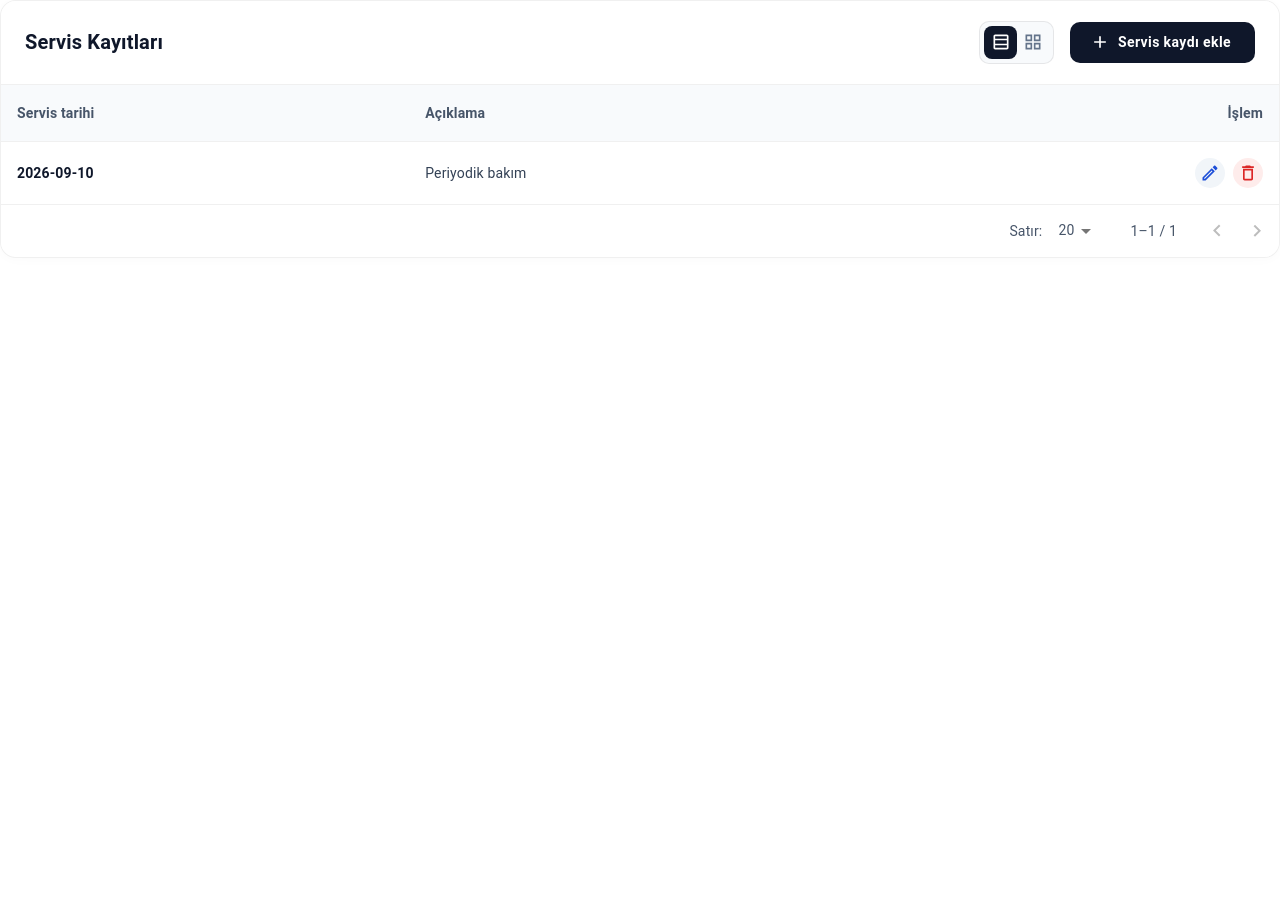
ServiceSection › silmeden önce kullanıcıdan onay ister ve başarılı silmede listeyi yeniler
The width and height of the screenshot is (1280, 900).
Click the button named "Sil" at (1248, 173), box [1233, 158, 1263, 188]
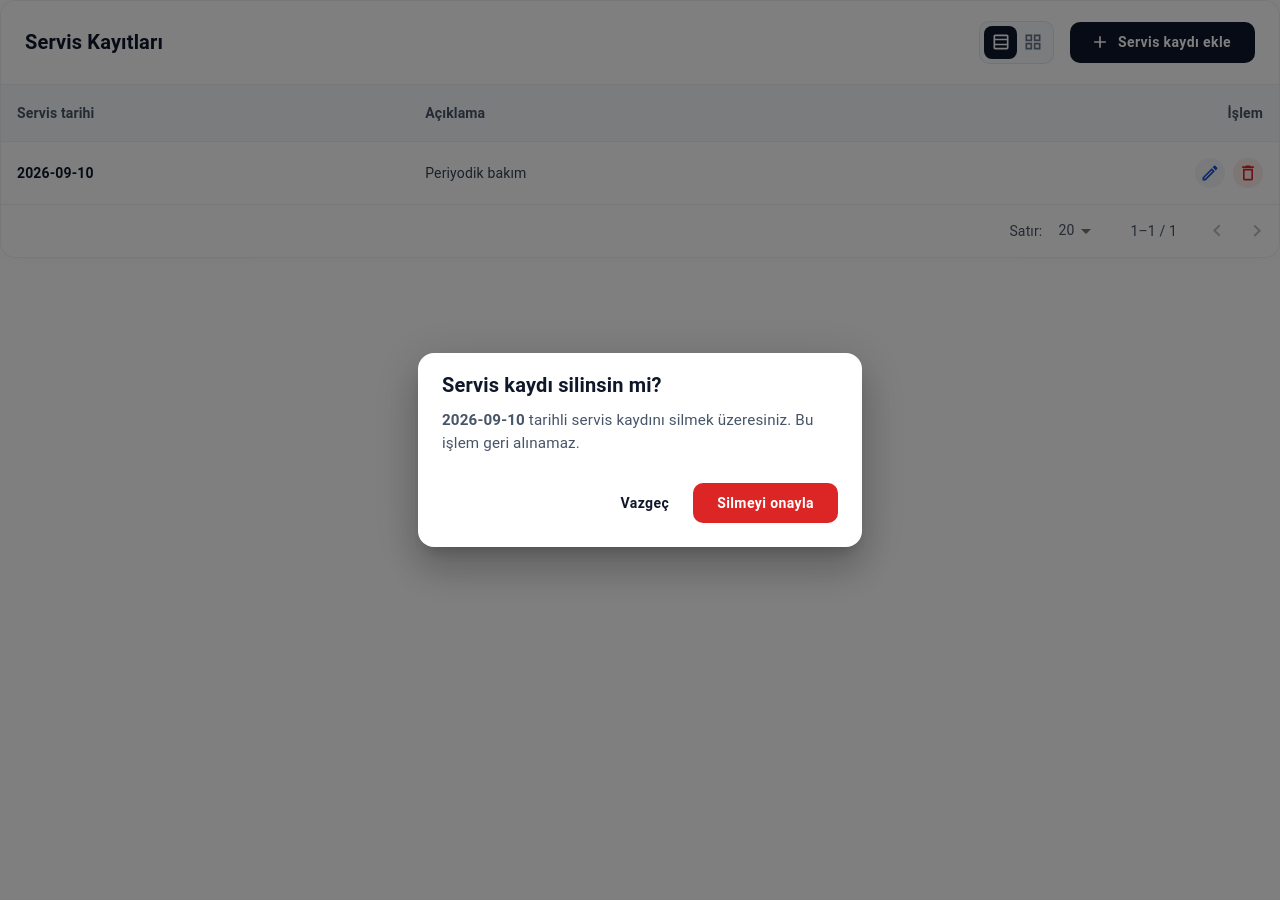
Expected: the heading "Servis kaydı silinsin mi?" is shown, [442, 373, 662, 397]
Click the button "Silmeyi onayla" at (766, 503), box [693, 482, 838, 523]
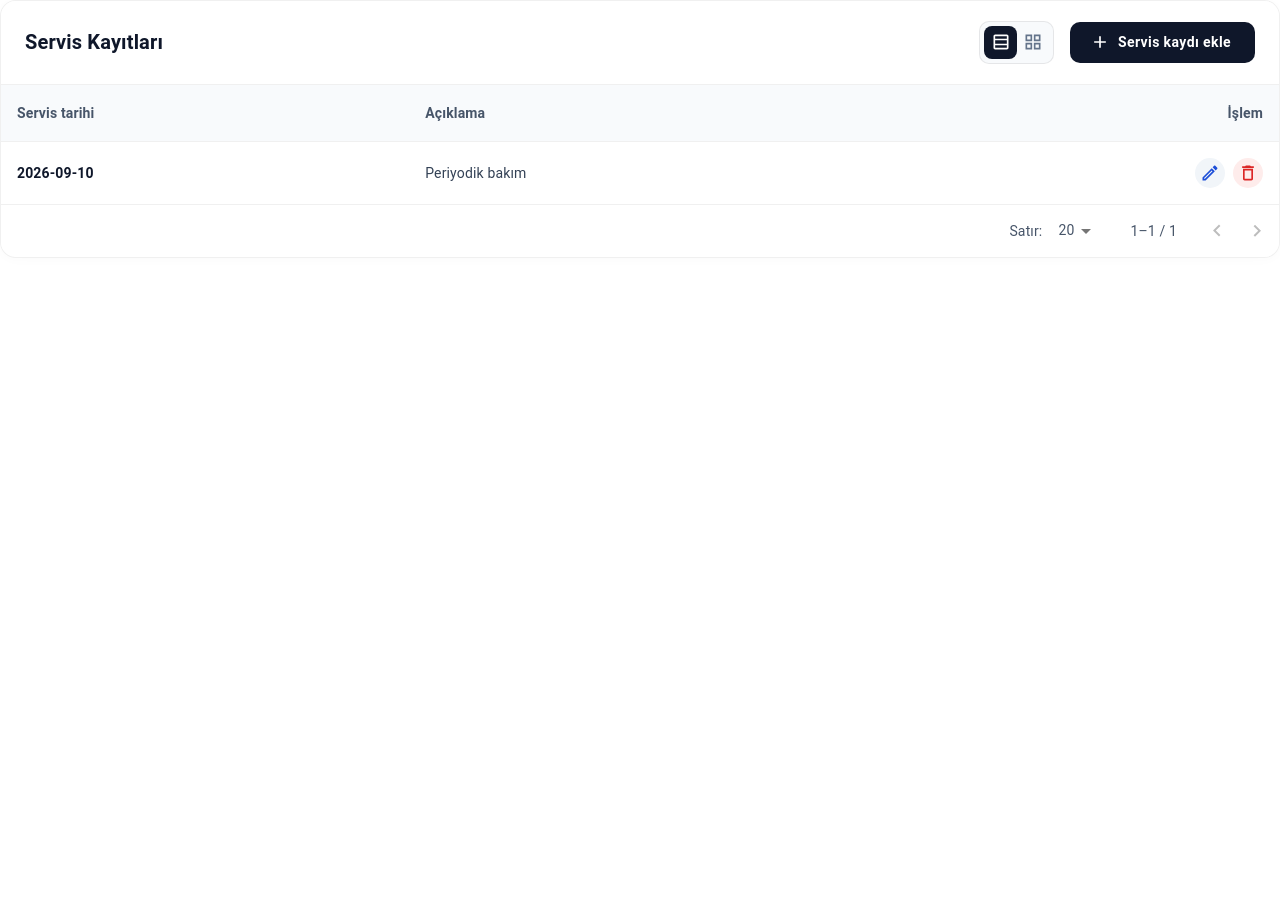
Expected: the heading "Servis kaydı silinsin mi?" is gone
